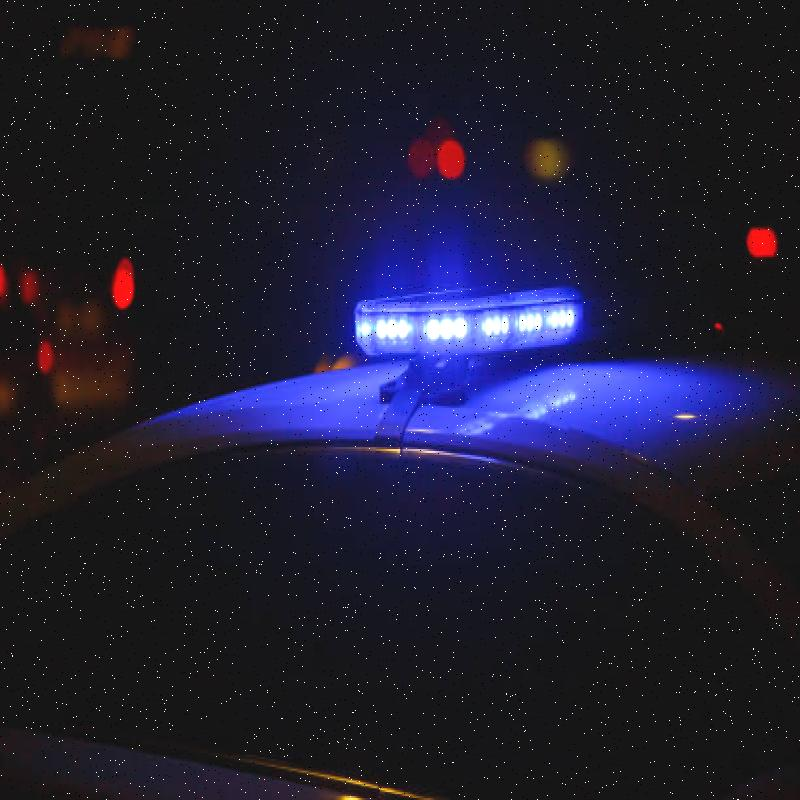AmbulanceSiren: (346, 275, 624, 376)
